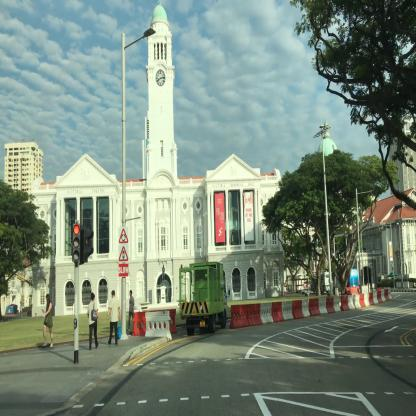red_traffic_light: (73, 223, 80, 260)
